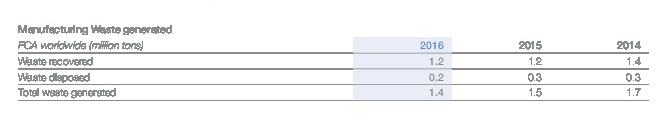table: (0, 0, 665, 115)
